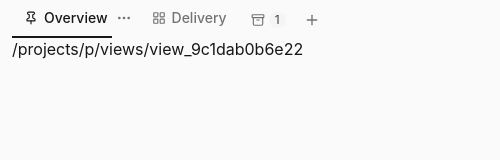
Scenario: view tabs › shows visible views, hides archived ones behind a menu, and restores them
Check: the link "Overview" is shown, box [12,0,112,38]
Check: the link "Old plan" is not shown
Click the button named "Archived (1)".
click(268, 20)  # box [243,6,294,34]
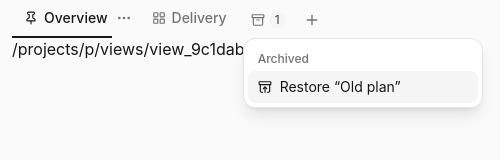
Click the menu item "Restore “Old plan”".
click(363, 87)  # box [248,71,478,103]
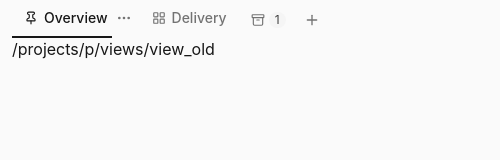
Check: the text with test id "path" reads "/projects/p/views/view_old", box [12,39,215,59]
